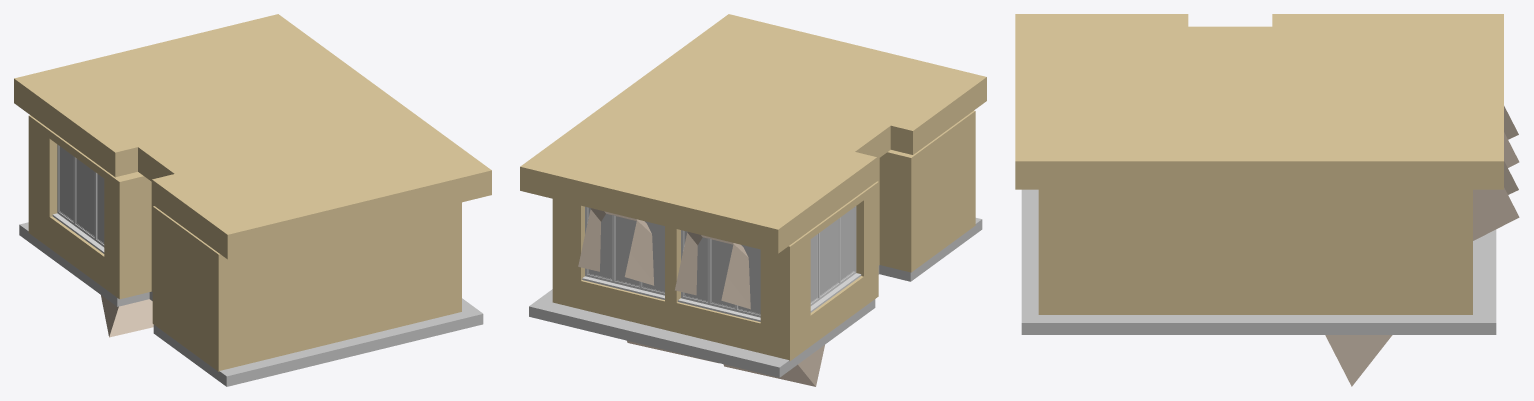
File: FloorPlan214.fbx
3 views of the same model, side by side, from view 1: azimuth 30°, elevation 25°; view 2: azimuth 150°, elevation 25°; view 3: azimuth 270°, elevation 25° (orthographic). The views are drawn at different scales.
Parts seen in each view (by area): view 1: Ceiling.001, Room.011, Floor.003, Window.004, Baseboard.012; view 2: Ceiling.001, Room.011, Floor.003, Baseboard.012, Window.006, Window.005, Window.004; view 3: Ceiling.001, Room.011, Floor.003, Baseboard.012.
Part boxes in pixels (x1,y1,x2,y2): Ceiling.001: [14, 14, 491, 259]; Room.011: [28, 115, 461, 371]; Floor.003: [19, 222, 483, 386]; Window.004: [52, 144, 104, 253]; Baseboard.012: [101, 295, 153, 337]; Ceiling.001: [520, 14, 986, 253]; Room.011: [552, 110, 975, 360]; Floor.003: [529, 218, 982, 377]; Baseboard.012: [578, 208, 824, 386]; Window.006: [582, 206, 664, 299]; Window.005: [678, 230, 760, 321]; Window.004: [810, 206, 861, 312]; Ceiling.001: [1015, 14, 1503, 189]; Room.011: [1038, 189, 1472, 314]; Floor.003: [1021, 189, 1496, 334]; Baseboard.012: [1325, 106, 1519, 386].
Bounding box in the file's own units: 615 × 486 × 889.
